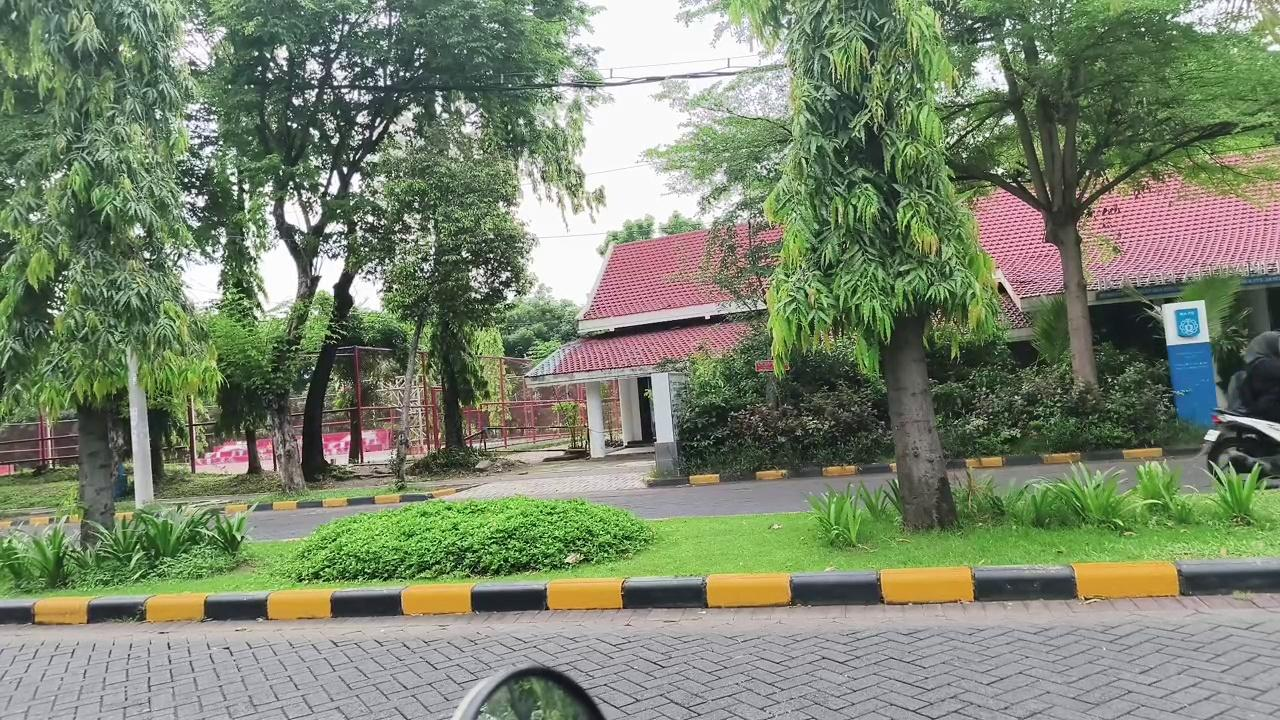Motor: (1204, 411, 1279, 478)
